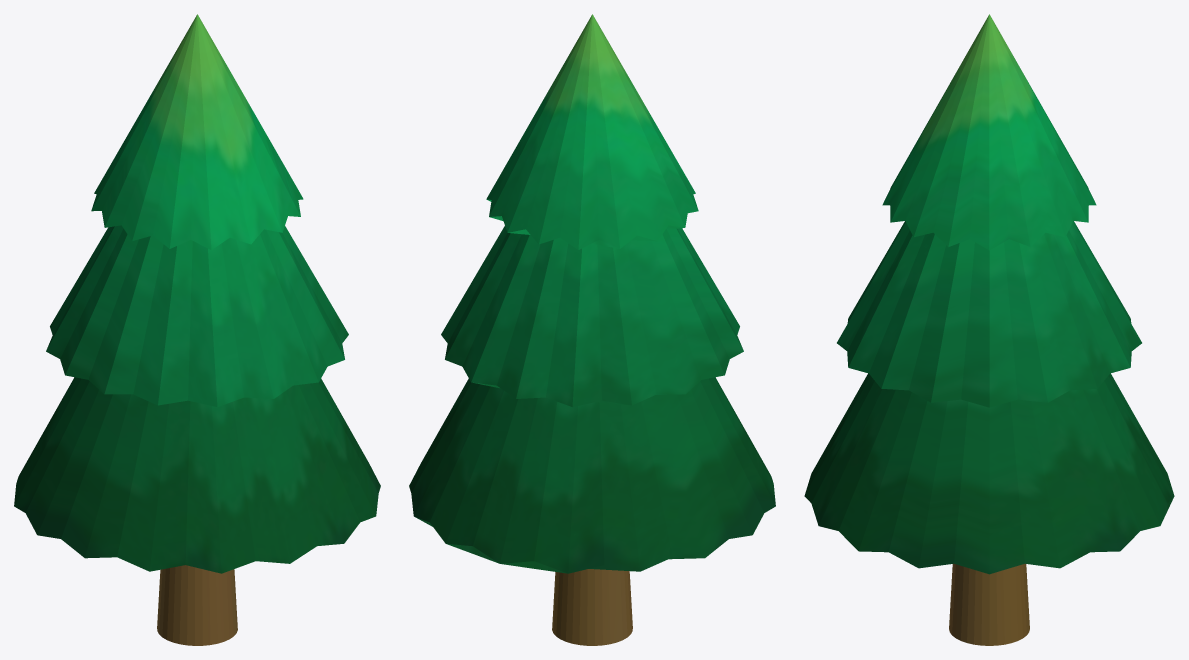
File: Tree.fbx
The picture shows the model from 3 angles, left to right: view 1: azimuth 30°, elevation 25°; view 2: azimuth 150°, elevation 25°; view 3: azimuth 270°, elevation 25°; orthographic projection.
Parts seen in each view (by area): view 1: Cylinder; view 2: Cylinder; view 3: Cylinder.
Part boxes in pixels (x1,y1,x2,y2): Cylinder: (14, 14, 380, 645); Cylinder: (409, 14, 775, 645); Cylinder: (804, 14, 1174, 645).
Bounding box in the file's own units: 261 × 478 × 261.
